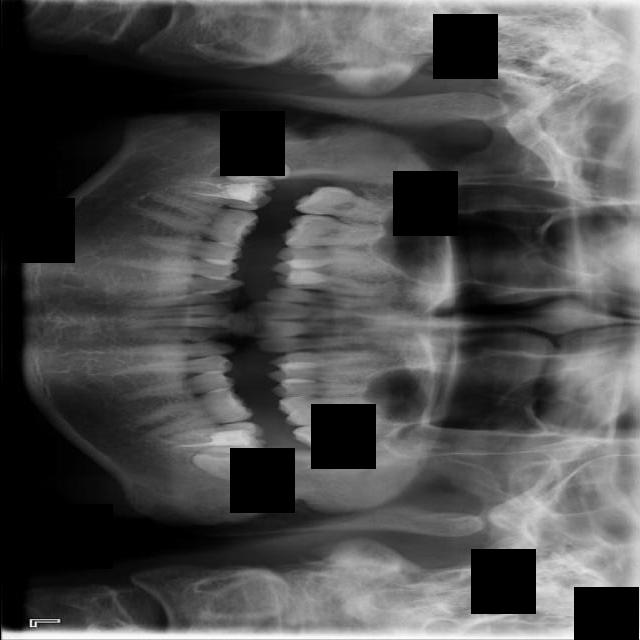52: (227, 173, 277, 215), (217, 418, 267, 458)
73: (169, 166, 233, 206), (158, 427, 222, 459), (52, 590, 68, 593)
BioHorizons Implant: (291, 411, 407, 458)
Biomet 3i Implant: (189, 441, 261, 486)
Blue Sky Bio Implant: (158, 420, 265, 459)
Caries: (292, 181, 401, 224)
Implant: (170, 172, 275, 211)
Keystone Dental Implant: (222, 144, 293, 189)
